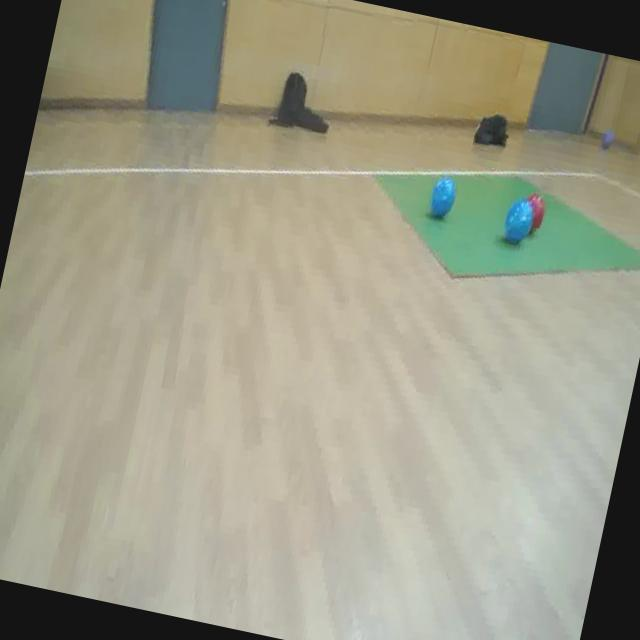blue_ball: (499, 194, 539, 248), (426, 170, 462, 218)
purple_ball: (598, 128, 616, 150)
red_ball: (522, 184, 548, 228)
